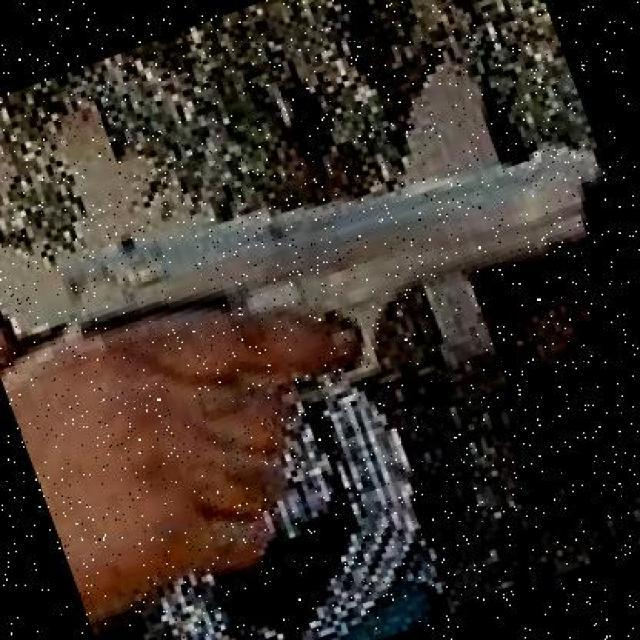rifle: (68, 138, 634, 413)
